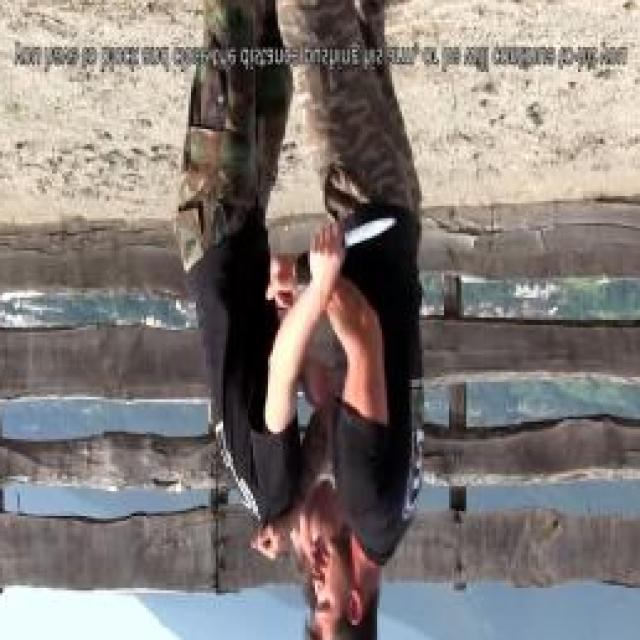knife: (305, 205, 398, 280)
